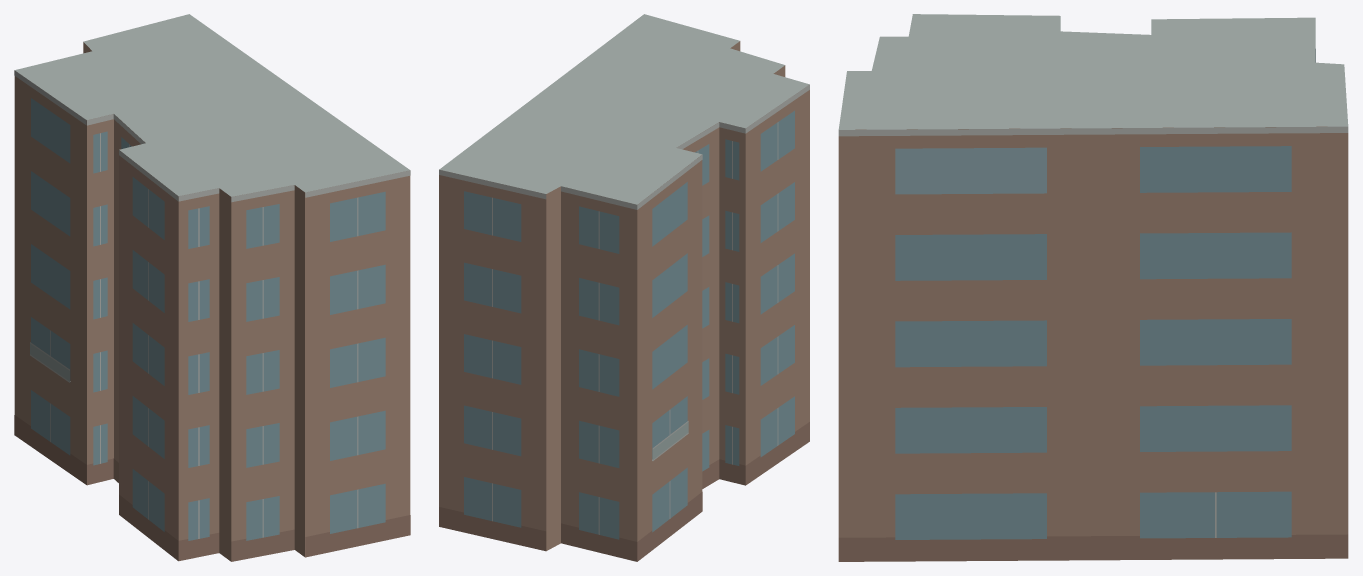
Rendered from survey-upis-33004941.glb.
3 views of the same model, side by side, from view 1: azimuth 30°, elevation 25°; view 2: azimuth 150°, elevation 25°; view 3: azimuth 270°, elevation 25° (orthographic). The views are drawn at different scales.
Parts seen in each view (by area): view 1: survey-upis-33004941.tmp; view 2: survey-upis-33004941.tmp; view 3: survey-upis-33004941.tmp.
Part boxes in pixels (box(x1,y1,x2,y2)): survey-upis-33004941.tmp: box(14, 14, 410, 561); survey-upis-33004941.tmp: box(439, 14, 809, 561); survey-upis-33004941.tmp: box(838, 14, 1348, 561).
Bounding box in the file's own units: 9.5 × 16.5 × 17.65.
